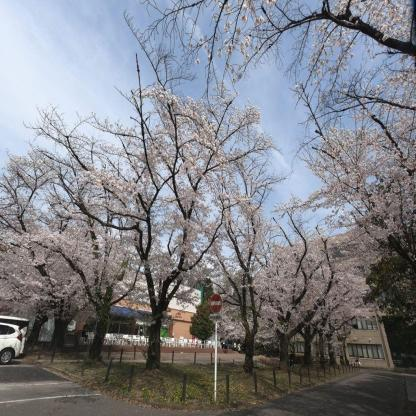Someiyoshino: (1, 69, 282, 345), (154, 1, 416, 261), (218, 212, 382, 355)
